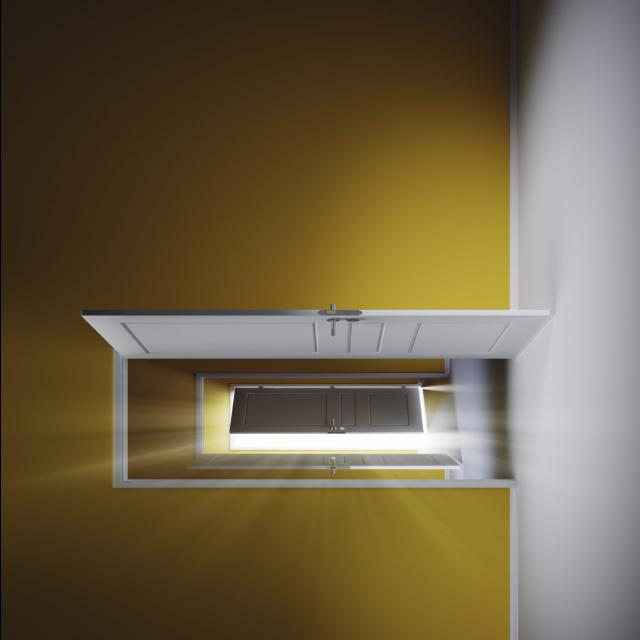open: (115, 308, 536, 487), (195, 368, 456, 466), (227, 384, 426, 451)
